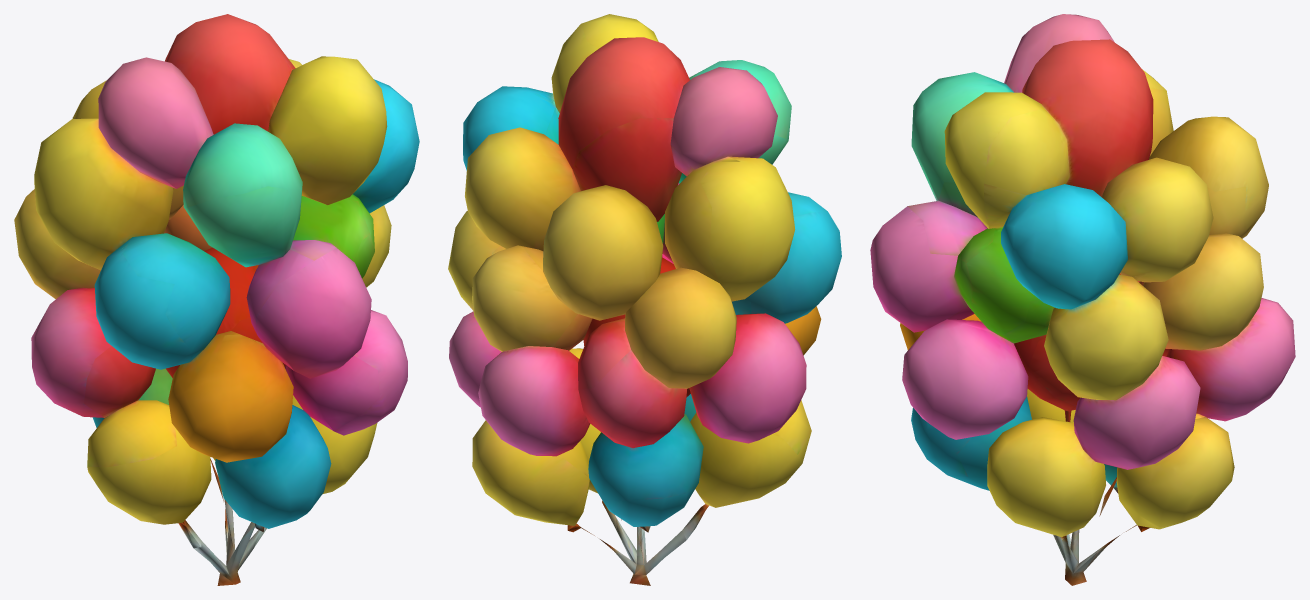
The model's file is m2BalloonBunch.glb.
3 renders of one model, left to right at view 1: azimuth 30°, elevation 25°; view 2: azimuth 150°, elevation 25°; view 3: azimuth 270°, elevation 25°, orthographic. The views are drawn at different scales.
Visible parts, largest first — view 1: model; view 2: model; view 3: model.
Part boxes in pixels (x1,y1,x2,y2): model: (14,14,419,585); model: (448,14,841,585); model: (870,14,1295,585).
Bounding box in the file's own units: 1.27 × 1.9 × 1.36.
1 material, 1 textured.
